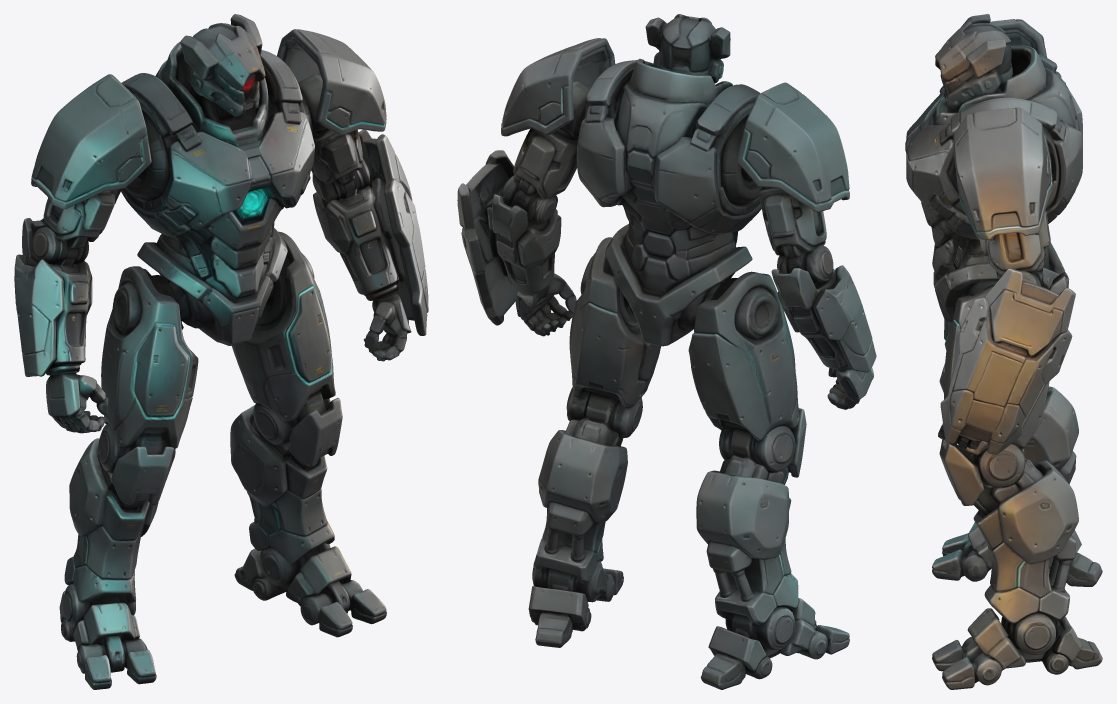
Rendered from enemy_iron_warden_boss_source.glb.
3 views of the same model, side by side, from view 1: azimuth 30°, elevation 25°; view 2: azimuth 150°, elevation 25°; view 3: azimuth 270°, elevation 25° (orthographic). The views are drawn at different scales.
Visible parts, largest first — view 1: tripo_node_be5a0ada-7e09-4242-a136-592c838ec2a4; view 2: tripo_node_be5a0ada-7e09-4242-a136-592c838ec2a4; view 3: tripo_node_be5a0ada-7e09-4242-a136-592c838ec2a4.
Part boxes in pixels (bbox=[...]): tripo_node_be5a0ada-7e09-4242-a136-592c838ec2a4: bbox=[14, 14, 428, 689]; tripo_node_be5a0ada-7e09-4242-a136-592c838ec2a4: bbox=[457, 14, 876, 689]; tripo_node_be5a0ada-7e09-4242-a136-592c838ec2a4: bbox=[905, 14, 1102, 689].
Size of the model in its own units: 0.6654 by 1 by 0.2999.
1 material, 1 textured.
